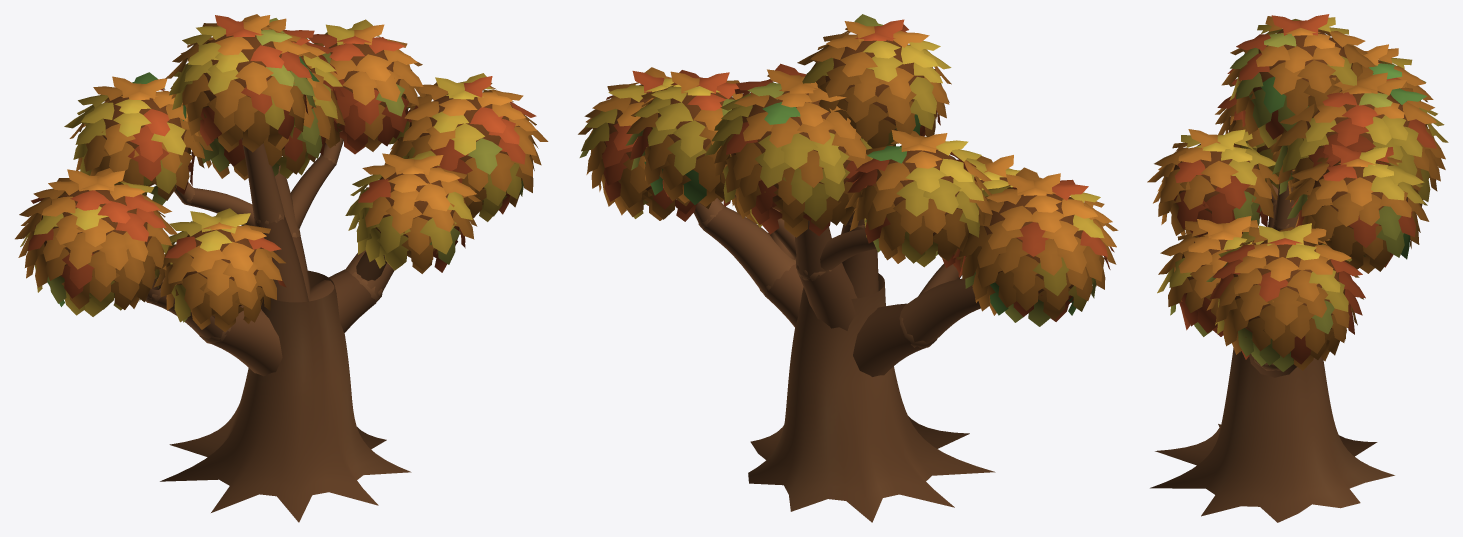
File: tree_old_fall.glb
3 views of the same model, side by side, from view 1: azimuth 30°, elevation 25°; view 2: azimuth 150°, elevation 25°; view 3: azimuth 270°, elevation 25° (orthographic). The views are drawn at different scales.
Visible parts, largest first — view 1: tree_old_fall; view 2: tree_old_fall; view 3: tree_old_fall.
Part boxes in pixels (x1,y1,x2,y2): tree_old_fall: (15,14,548,522); tree_old_fall: (578,14,1118,522); tree_old_fall: (1147,14,1448,522).
Size of the model in its own units: 7.58 by 6.33 by 3.94.
